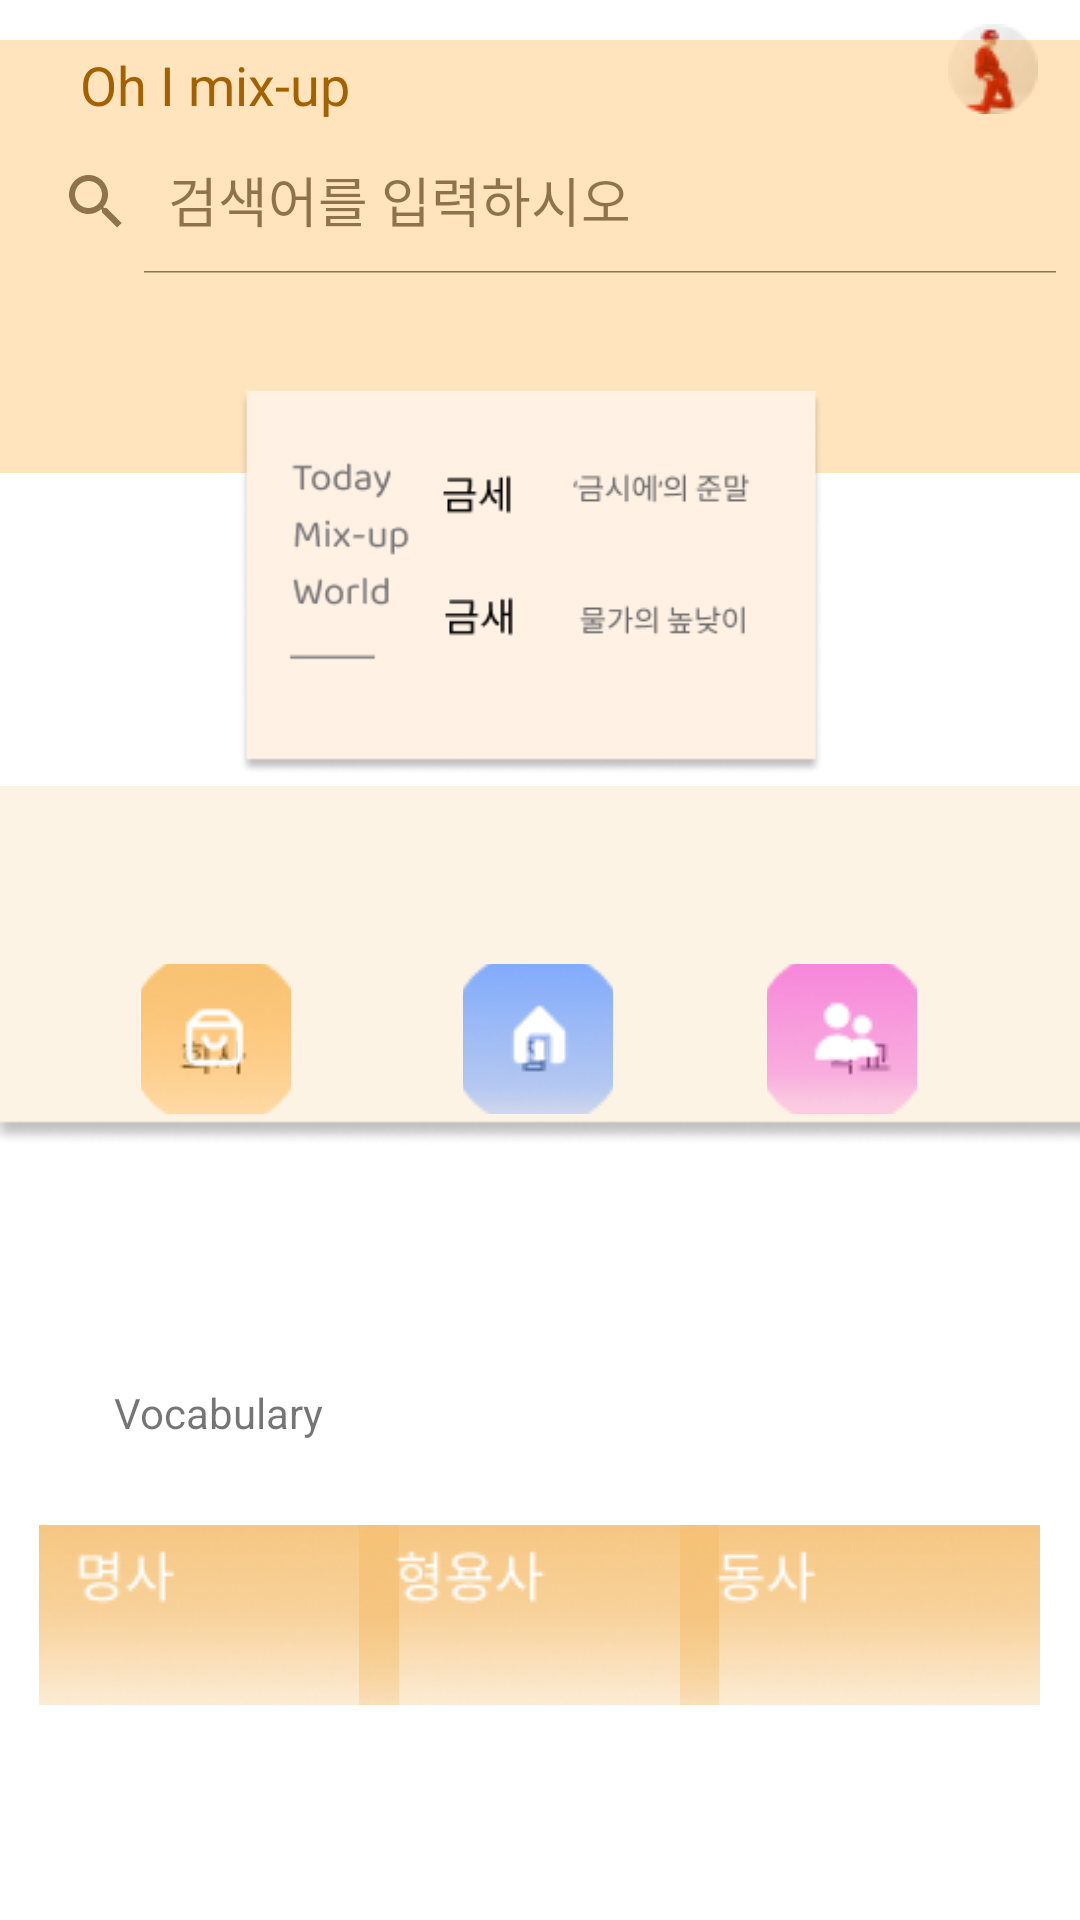

Where icons sit on this 1080*1920 app screen, as (x1, y1, x2, y2):
company: (141, 964, 291, 1114)
home: (463, 964, 613, 1114)
profile: (948, 24, 1038, 114)
